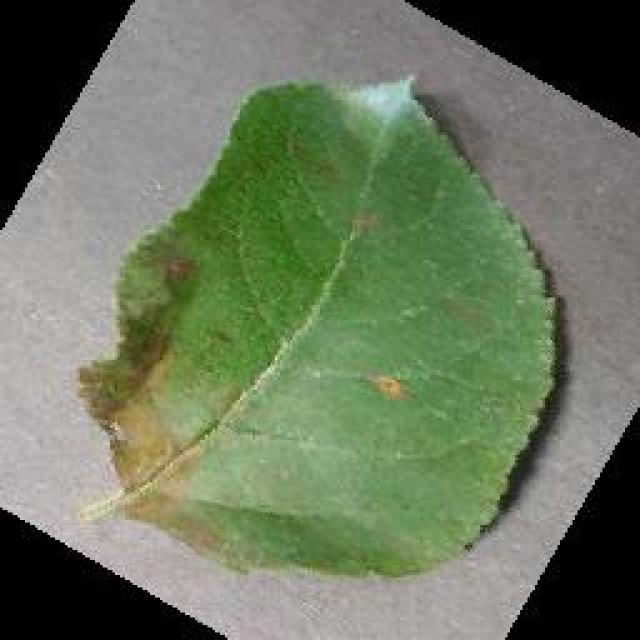apple healthy: (73, 72, 565, 580)
